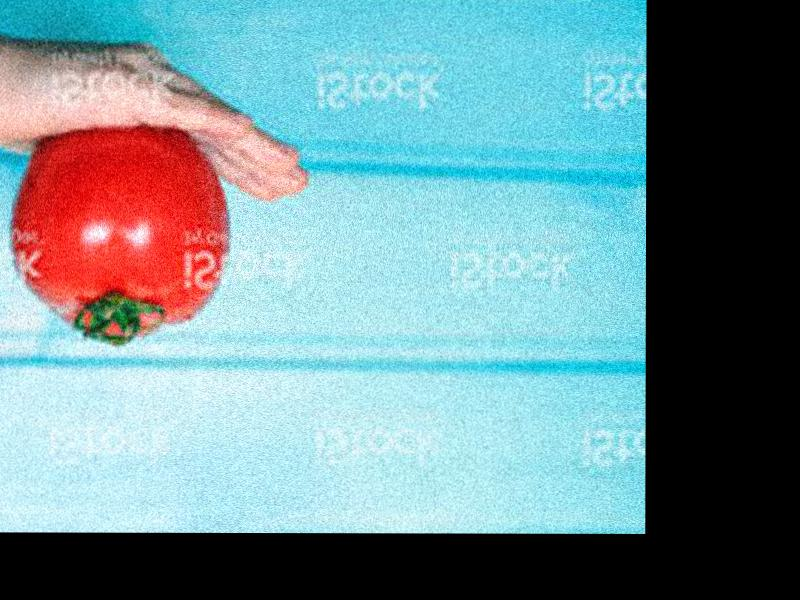Tomato: (14, 125, 230, 342)
